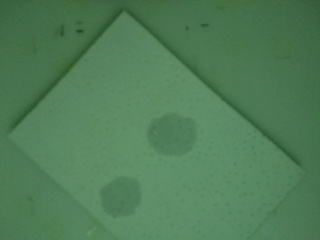Water_detected: (154, 123, 191, 157), (116, 175, 142, 204)
